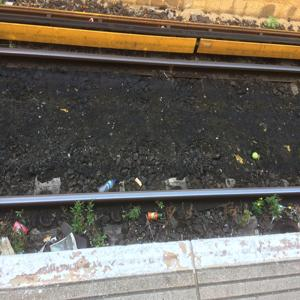glass: (140, 210, 167, 222)
metal: (6, 212, 34, 236)
plastic bottle: (97, 175, 117, 195)
